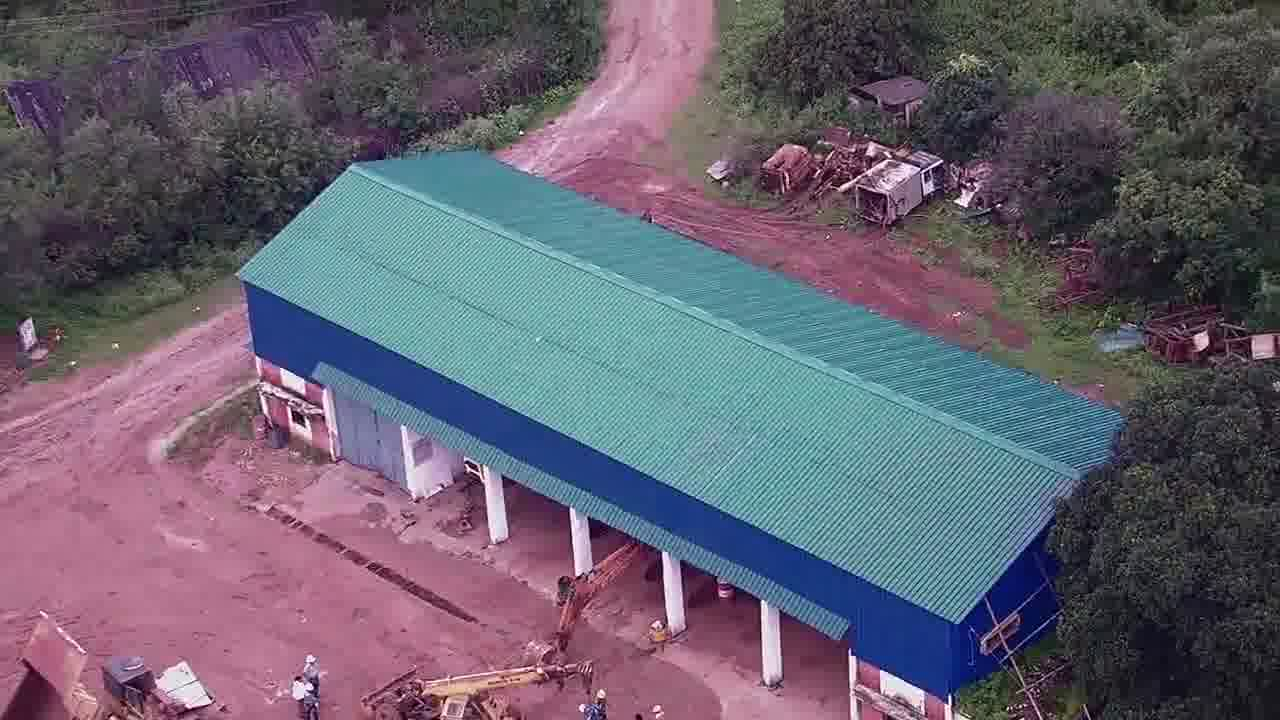Person: (303, 651, 324, 698), (290, 675, 310, 718), (303, 683, 318, 720)
